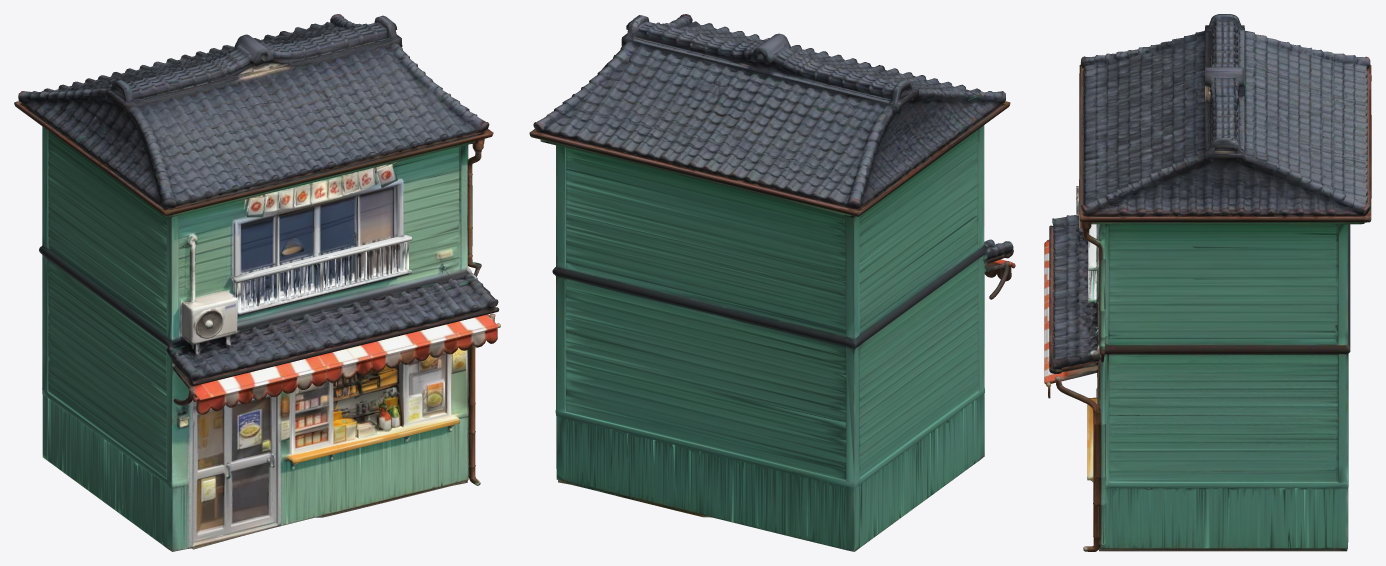
Rendered from zahuodian.glb.
3 renders of one model, left to right at view 1: azimuth 30°, elevation 25°; view 2: azimuth 150°, elevation 25°; view 3: azimuth 270°, elevation 25°, orthographic. The views are drawn at different scales.
Visible parts, largest first — view 1: node_0; view 2: node_0; view 3: node_0.
Part boxes in pixels (x1=…): node_0: x1=14, y1=14, x2=500, y2=551; node_0: x1=529, y1=14, x2=1015, y2=551; node_0: x1=1044, y1=14, x2=1371, y2=551.
Size of the model in its own units: 0.6993 by 0.8712 by 0.6257.
Materials: 1 (1 with a texture image).
